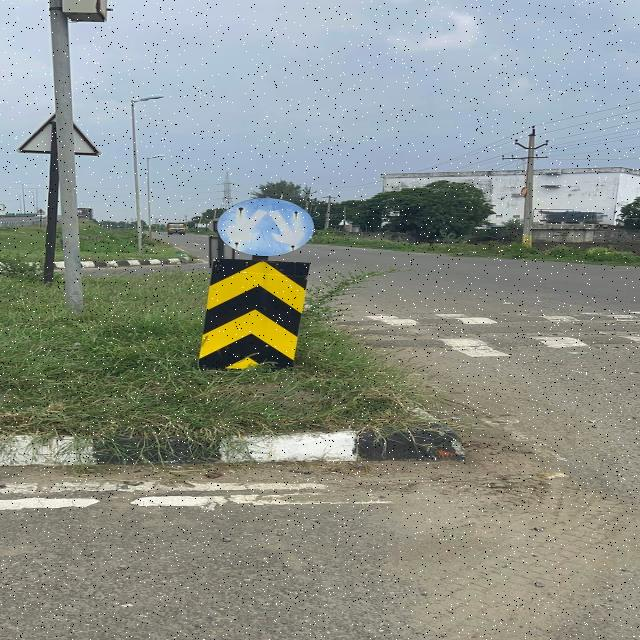Twoway_hazardmarker: (200, 251, 316, 374)
vehicles_may_pass_either: (197, 186, 331, 256)
